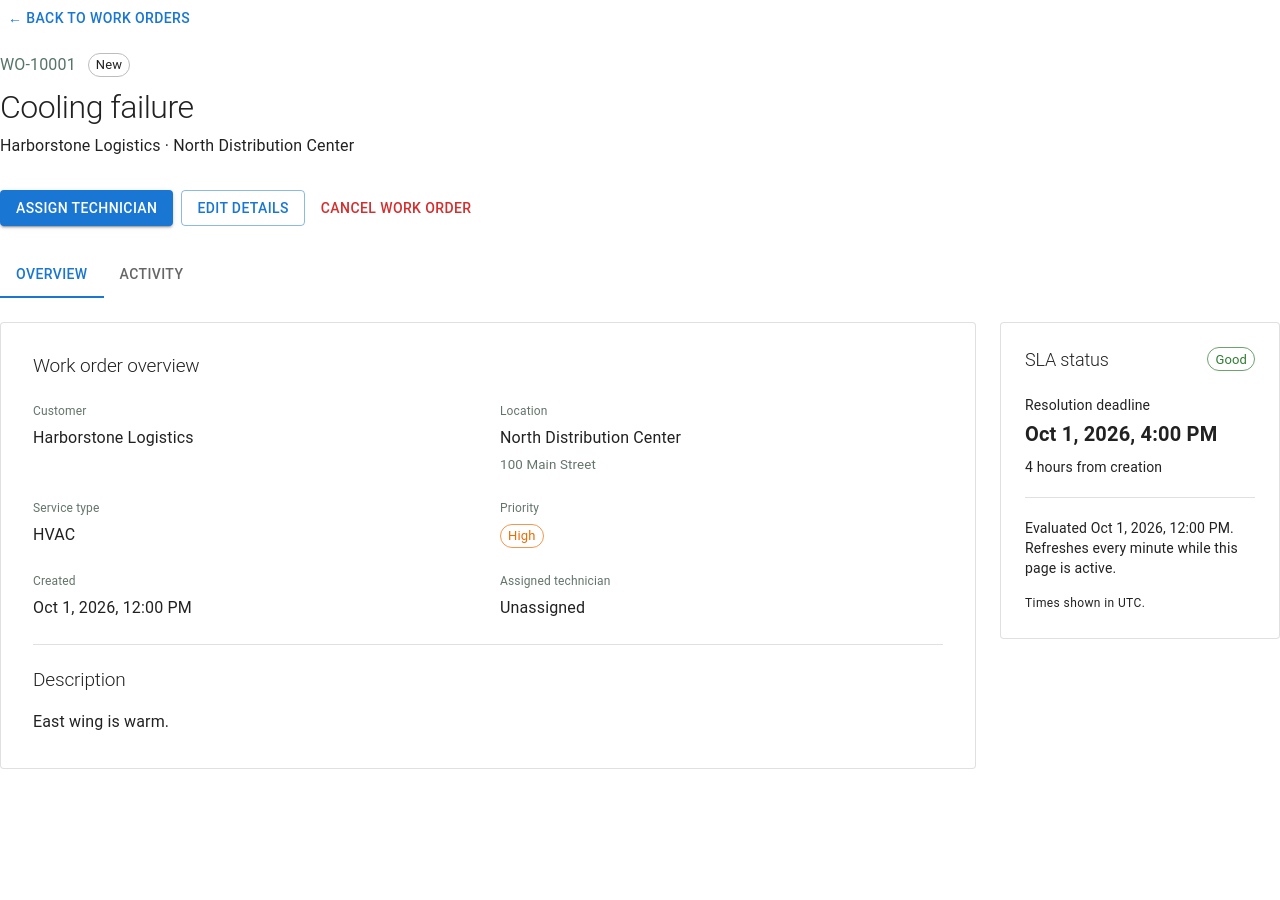
Test: reloads on stale revision, preserves draft and requires explicit review before retry
The width and height of the screenshot is (1280, 900).
Expected: the heading "Cooling failure" is shown, [0,88,193,126]
Click the button "Edit details" at (243, 208), box [181,190,305,226]
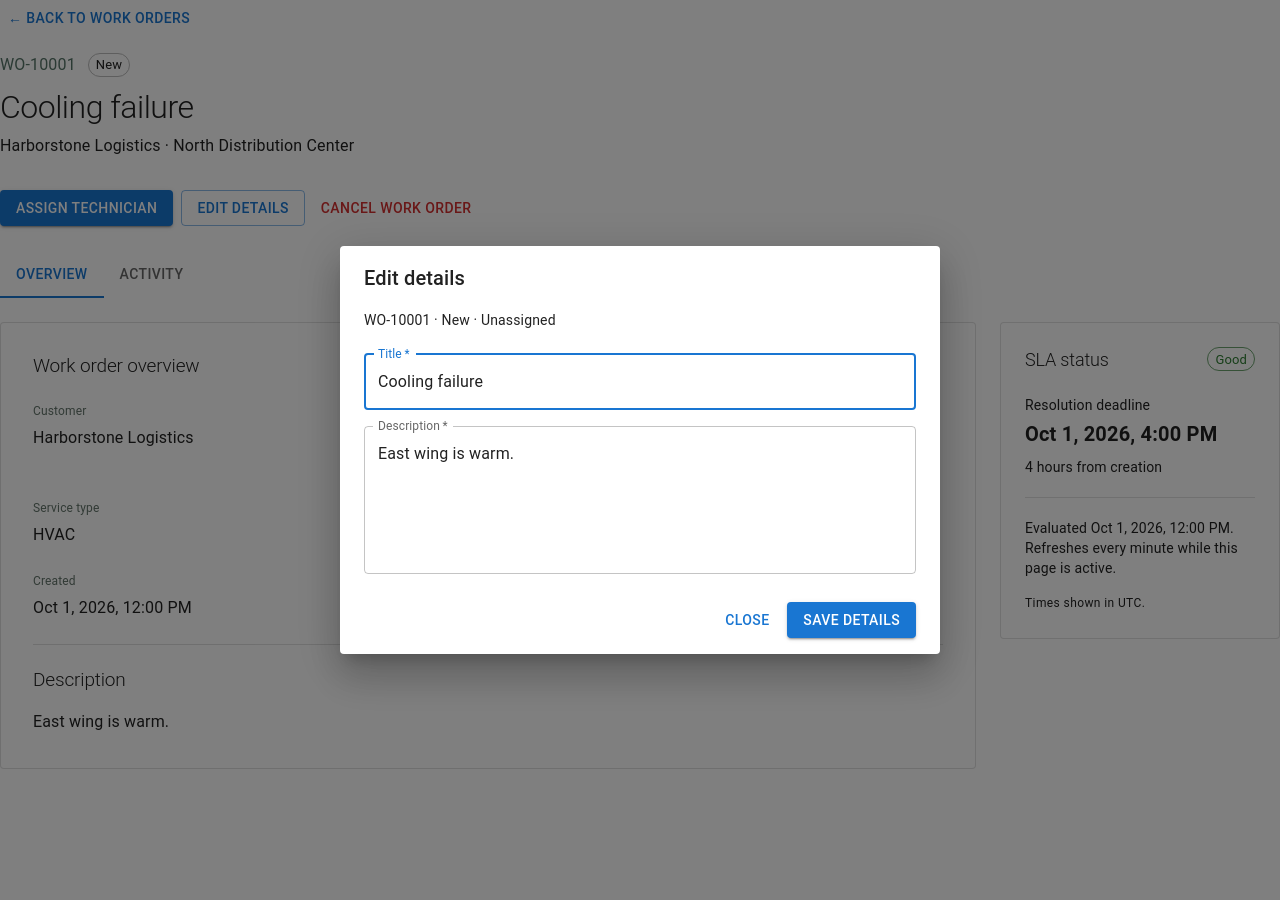
Replace the text in the field labelled "Title" with "My unsaved draft" at (640, 382), box [364,354,916,410]
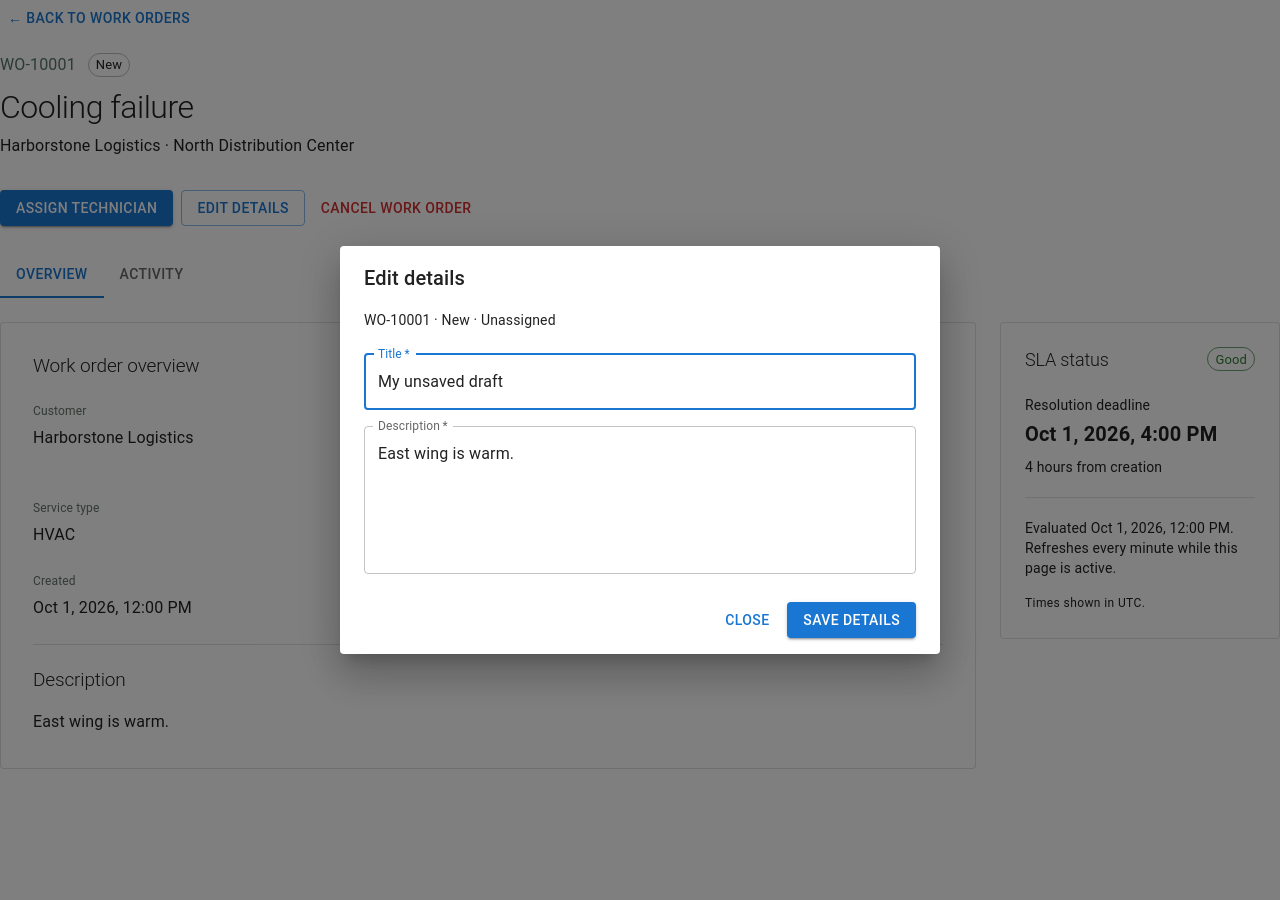
Click the button "Save details" at (852, 620), box [787,602,916,638]
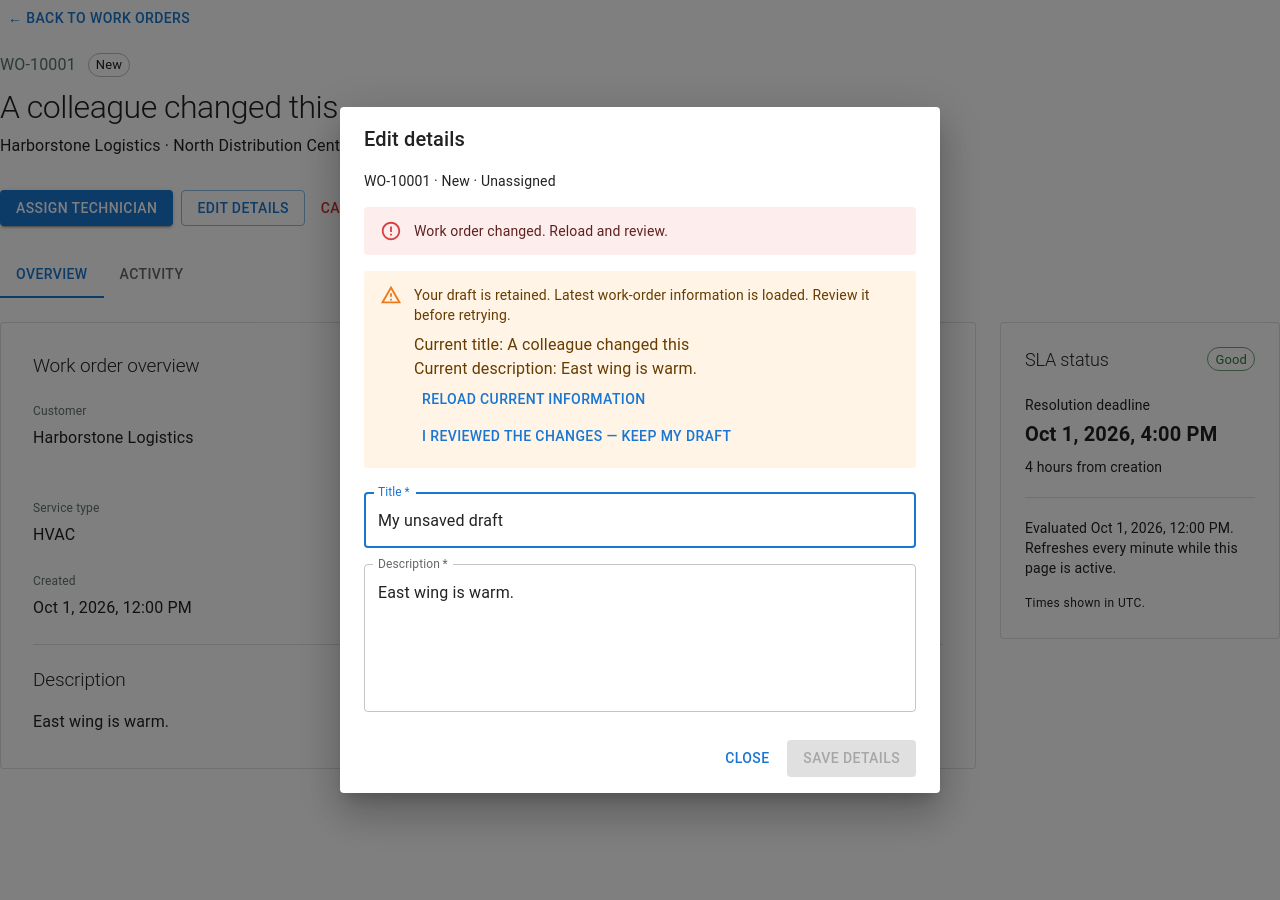
Expected: the text "Current title: A colleague changed this" is shown, [414,335,689,354]
Expected: the button "Save details" is disabled, [787,740,916,777]
Click the button "I reviewed the changes — keep my draft" at (577, 436), box [414,418,740,454]
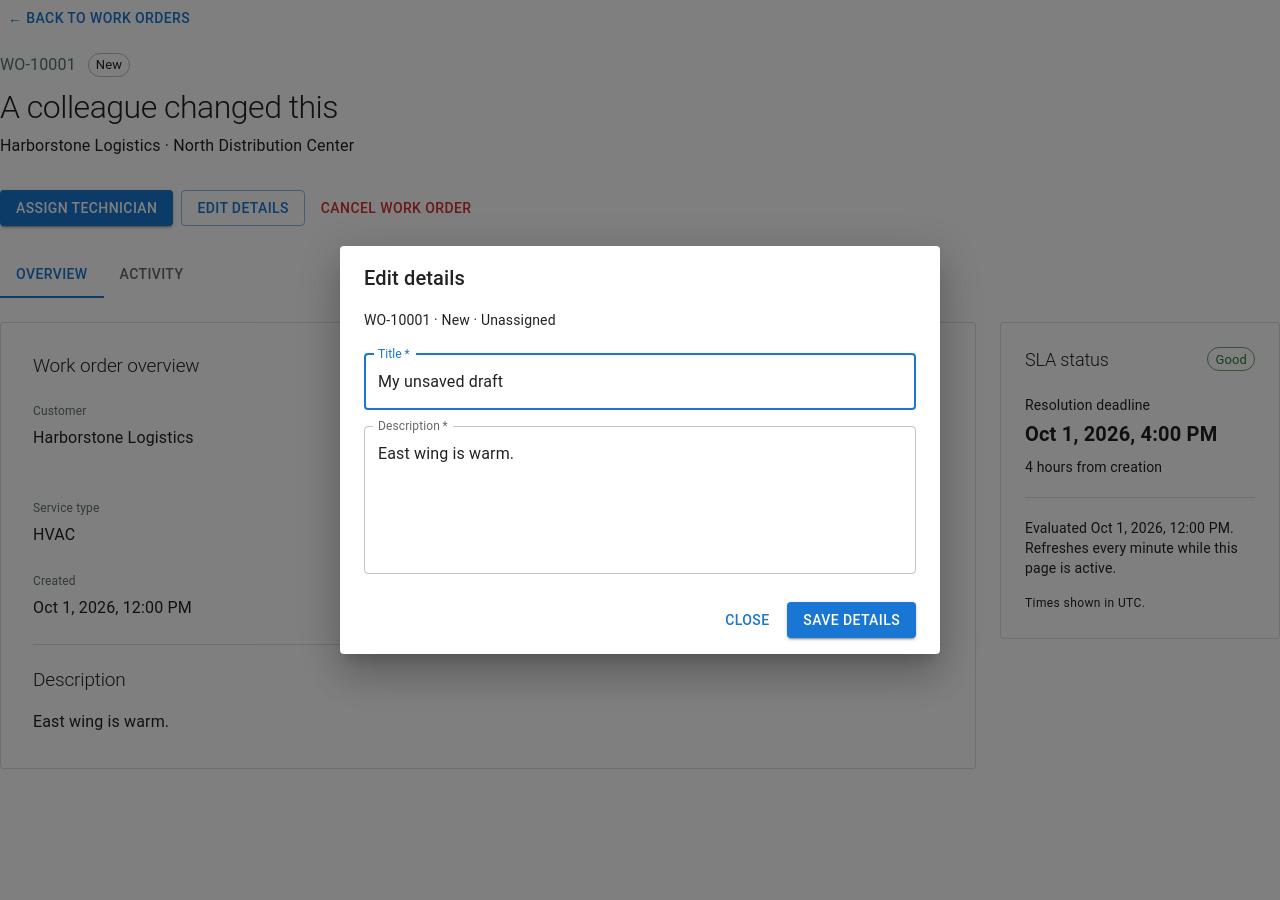
Click the button "Save details" at (852, 620), box [787,602,916,638]
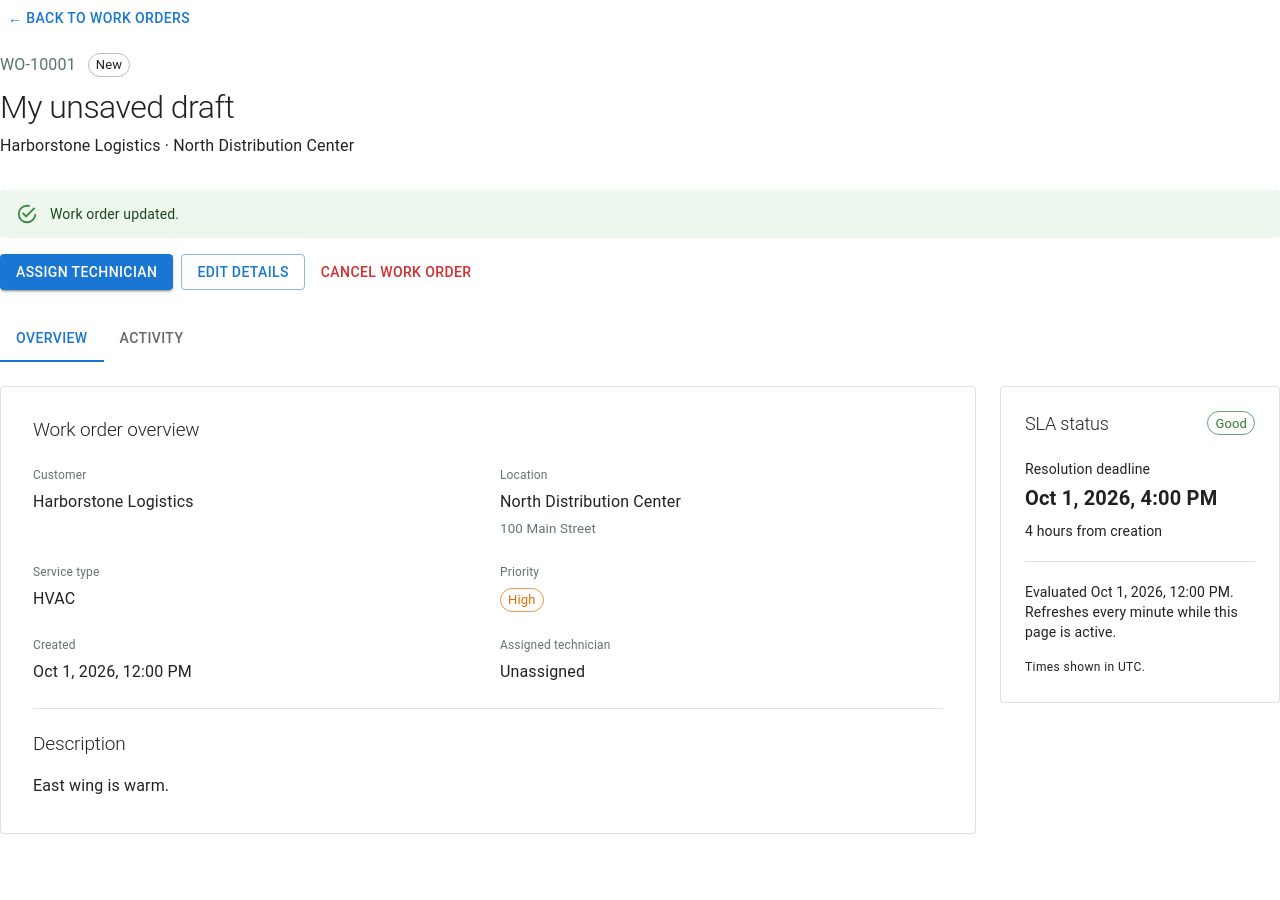
Expected: the heading "My unsaved draft" is shown, [0,88,234,126]
